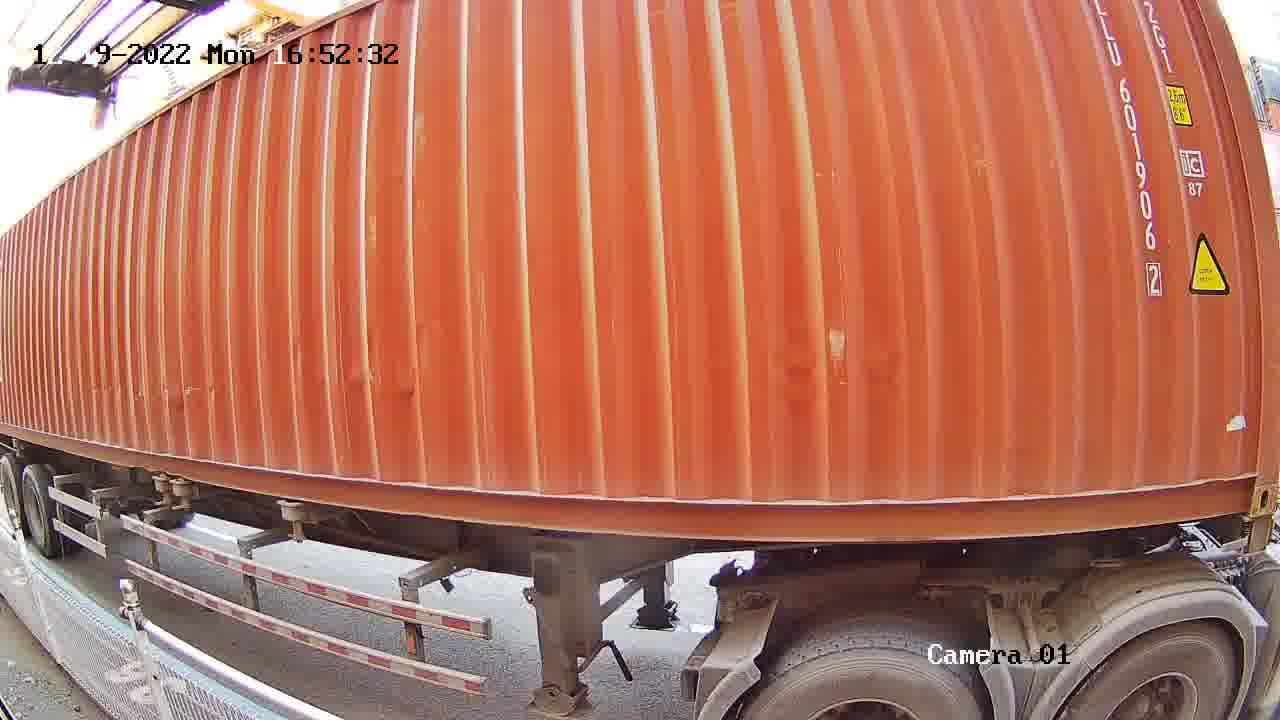Cone: (1236, 516, 1274, 555)
Hole_R: (1211, 437, 1279, 517)
Tire: (1062, 625, 1236, 719), (740, 649, 981, 715)
